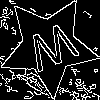W: (23, 21, 84, 82)
